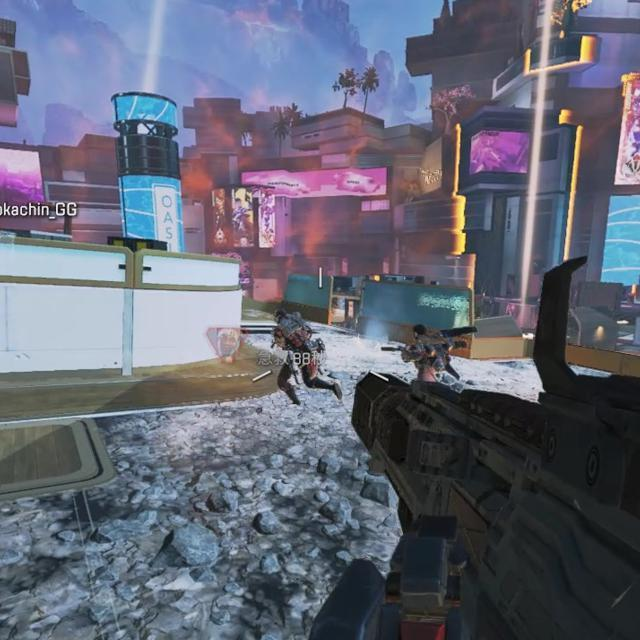avatar: (270, 306, 328, 409), (399, 320, 451, 382)
